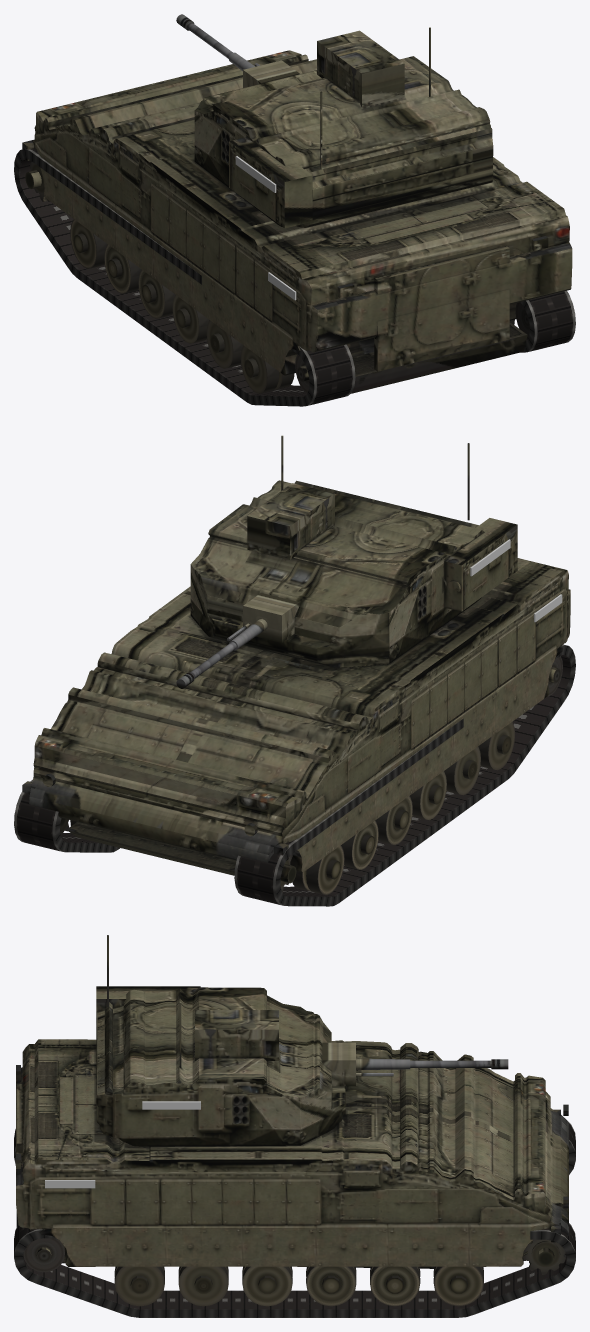
File: bradley.glb
The picture shows the model from 3 angles, top to bottom: view 1: azimuth 30°, elevation 25°; view 2: azimuth 150°, elevation 25°; view 3: azimuth 270°, elevation 25°; orthographic projection. The views are drawn at different scales.
Visible parts, largest first — view 1: Hull, Turret, TrackL, TrackR, Gun, WheelL5, WheelL0, WheelL1, WheelL2, WheelL3, WheelL4; view 2: Hull, Turret, TrackL, Gun, TrackR, WheelL0, WheelL1, WheelL2, WheelL3, WheelL4, WheelL5; view 3: Hull, Turret, TrackR, Gun, WheelR4, WheelR3, WheelR2, WheelR5, WheelR1, WheelR0, IdlerR, SprocketR.
Boxes of the visible parts, x1,y1,x2,y2 form: Hull: [22, 50, 572, 393]; Turret: [194, 27, 493, 228]; TrackL: [14, 148, 355, 406]; TrackR: [520, 290, 575, 352]; Gun: [176, 14, 299, 87]; WheelL5: [240, 345, 294, 393]; WheelL0: [70, 219, 107, 268]; WheelL1: [104, 244, 141, 293]; WheelL2: [138, 269, 175, 318]; WheelL3: [172, 295, 208, 343]; WheelL4: [206, 320, 243, 368]; Hull: [22, 558, 570, 875]; Turret: [190, 435, 517, 667]; TrackL: [234, 644, 575, 906]; Gun: [176, 593, 299, 688]; TrackR: [14, 779, 119, 852]; WheelL0: [292, 845, 344, 894]; WheelL1: [341, 821, 378, 869]; WheelL2: [375, 796, 412, 844]; WheelL3: [410, 771, 446, 820]; WheelL4: [444, 746, 480, 795]; WheelL5: [478, 722, 514, 770]; Hull: [16, 1039, 568, 1268]; Turret: [96, 935, 345, 1146]; TrackR: [14, 1223, 575, 1317]; Gun: [322, 1042, 508, 1086]; WheelR4: [178, 1266, 228, 1306]; WheelR3: [242, 1266, 292, 1306]; WheelR2: [306, 1266, 356, 1306]; WheelR5: [114, 1266, 164, 1306]; WheelR1: [370, 1266, 420, 1306]; WheelR0: [433, 1266, 483, 1306]; IdlerR: [23, 1238, 64, 1272]; SprocketR: [523, 1239, 565, 1274].
Bounding box in the file's own units: 3.44 × 3.81 × 6.7.
Materials: 3 (2 with a texture image).
